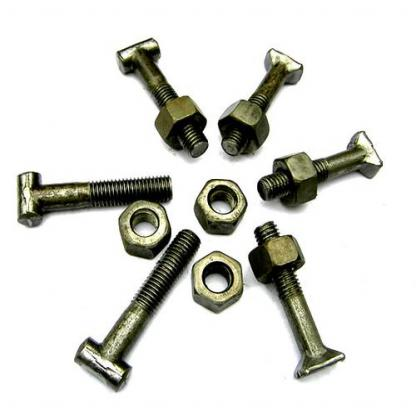FOD: (74, 228, 205, 393), (16, 168, 174, 228), (190, 246, 245, 315), (192, 176, 248, 236), (116, 200, 170, 261)
